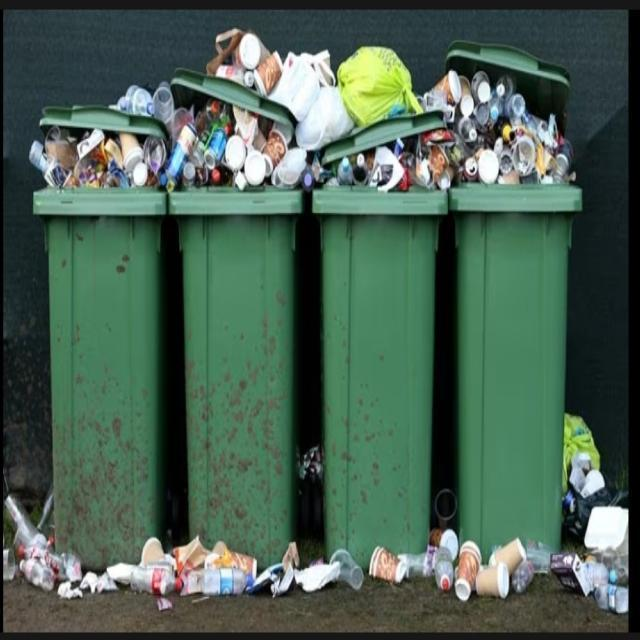Disposable: (254, 50, 282, 95), (262, 128, 288, 175), (119, 132, 144, 174), (152, 82, 175, 125), (435, 69, 461, 104), (144, 136, 166, 175), (471, 71, 491, 103), (459, 76, 474, 118), (338, 157, 352, 184)
Garbage: (29, 29, 575, 191)
Plastic_Bag: (338, 46, 421, 126), (269, 50, 335, 122), (295, 86, 354, 151)
Plastic_bottle: (116, 84, 154, 115), (115, 86, 154, 115), (215, 65, 255, 87), (504, 92, 525, 124), (458, 118, 478, 143), (489, 90, 502, 124), (496, 76, 515, 99), (301, 166, 315, 193), (182, 162, 196, 187)
can: (166, 124, 196, 182), (204, 128, 228, 170), (352, 153, 368, 183), (464, 155, 478, 180)
